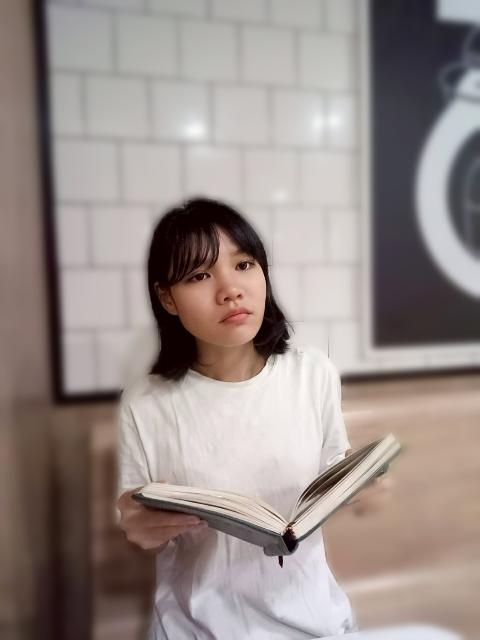fokus: (163, 212, 268, 349)
